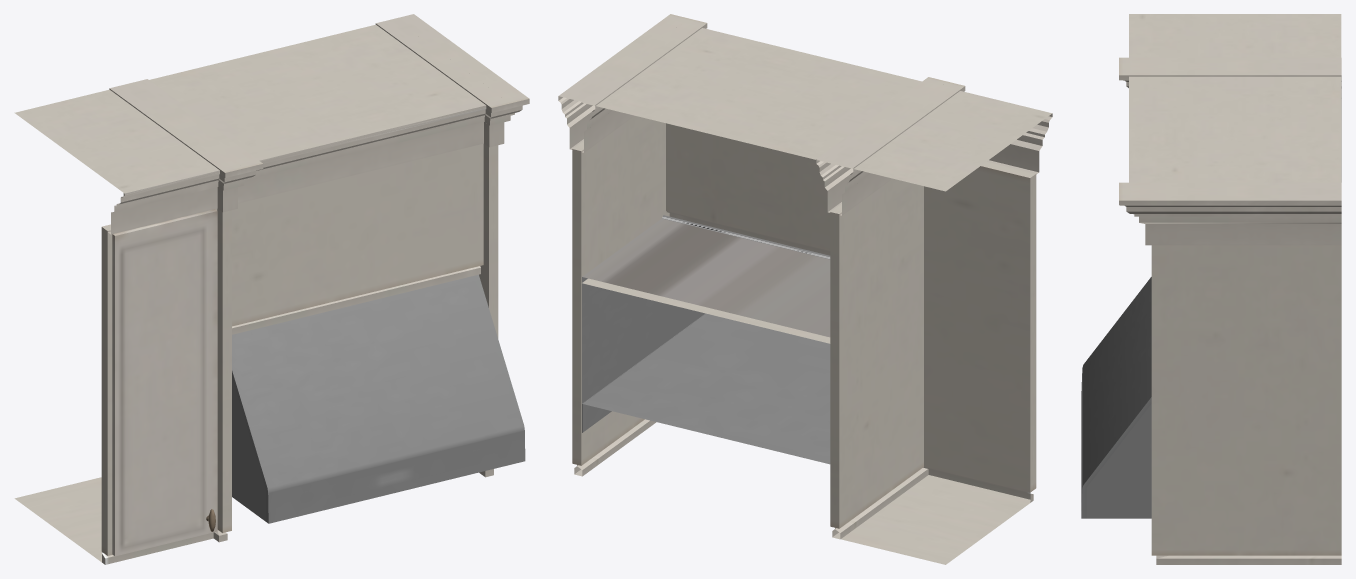
Rendered from KitCabinet_Up_1x_CookerHood.FBX.
3 views of the same model, side by side, from view 1: azimuth 30°, elevation 25°; view 2: azimuth 150°, elevation 25°; view 3: azimuth 270°, elevation 25° (orthographic). The views are drawn at different scales.
Visible parts, largest first — view 1: KitCabinet_Up_1x_CookerHood; view 2: KitCabinet_Up_1x_CookerHood; view 3: KitCabinet_Up_1x_CookerHood.
Boxes of the visible parts, left/top/right/bottom form: KitCabinet_Up_1x_CookerHood: left=14, top=14, right=529, bottom=564; KitCabinet_Up_1x_CookerHood: left=558, top=14, right=1052, bottom=564; KitCabinet_Up_1x_CookerHood: left=1081, top=14, right=1341, bottom=564.
Bounding box in the file's own units: 105 × 97.13 × 61.64.
